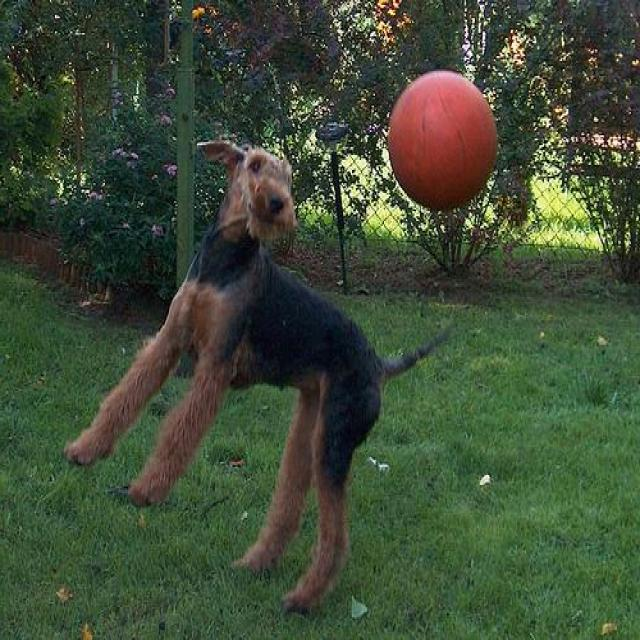airedale: (60, 134, 449, 614)
